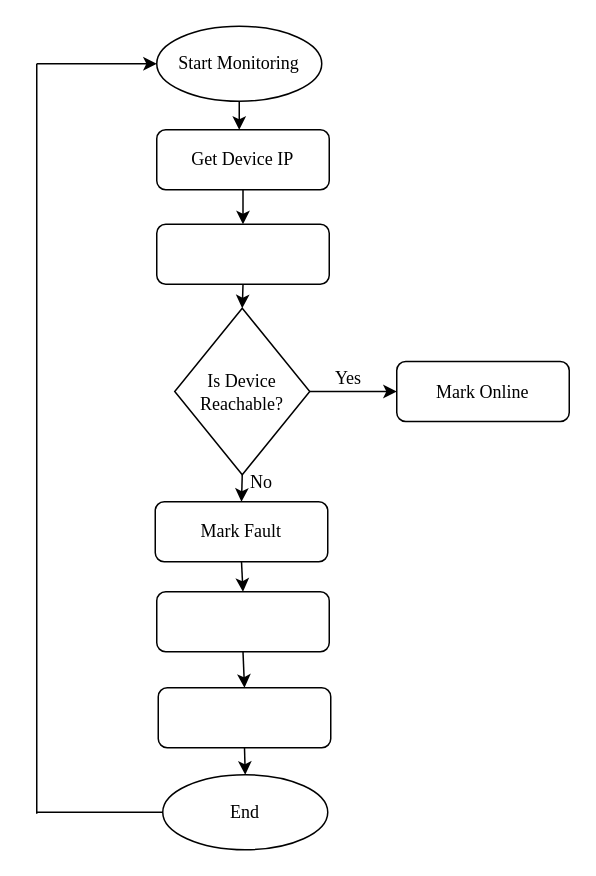
Image size: 596x876. Some labels were removed from this diagram. The centre of each missing label's shape, as x and y in pixels:
"Send Alert" belongs at point (242, 621).
"Send Ping Request" belongs at point (242, 253).
"Update Dashboard/Log" belongs at point (244, 717).
